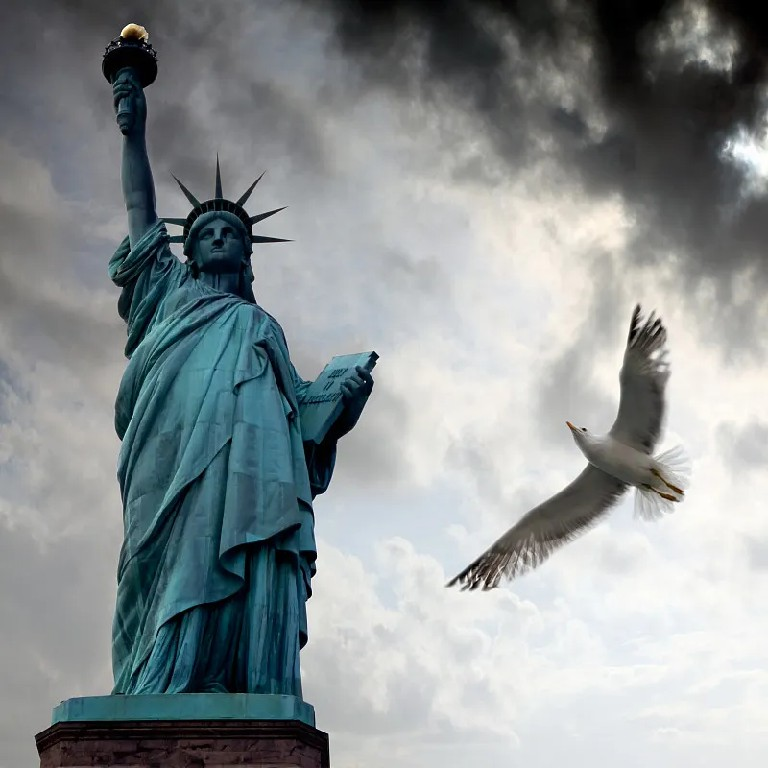SL: (33, 23, 380, 768)
